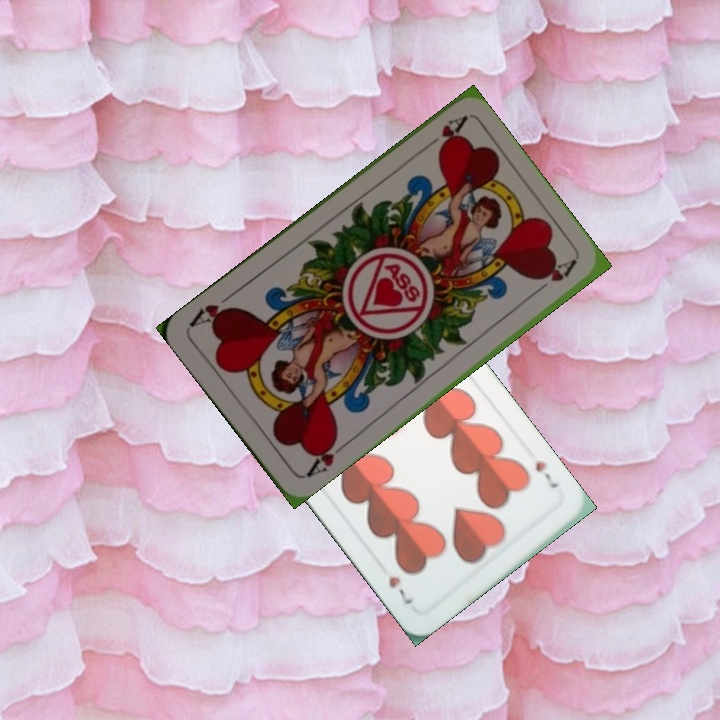H7: (531, 457, 561, 491)
HA: (300, 431, 350, 481), (416, 112, 469, 154)
